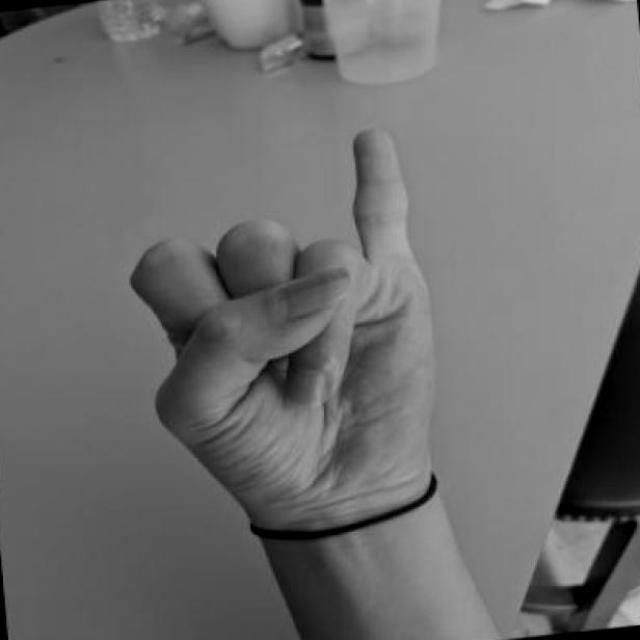I: (117, 110, 448, 553)
